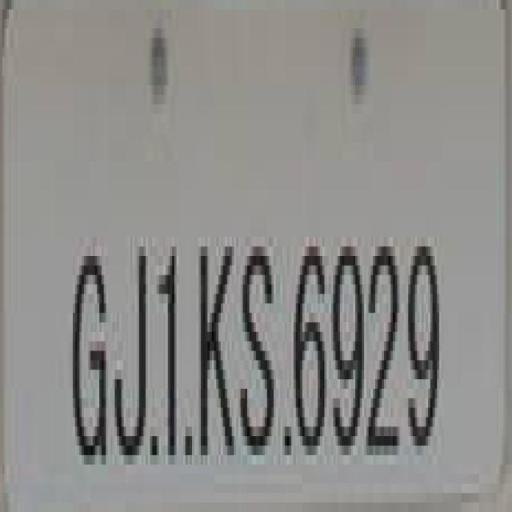number plate: (0, 28, 486, 512)
